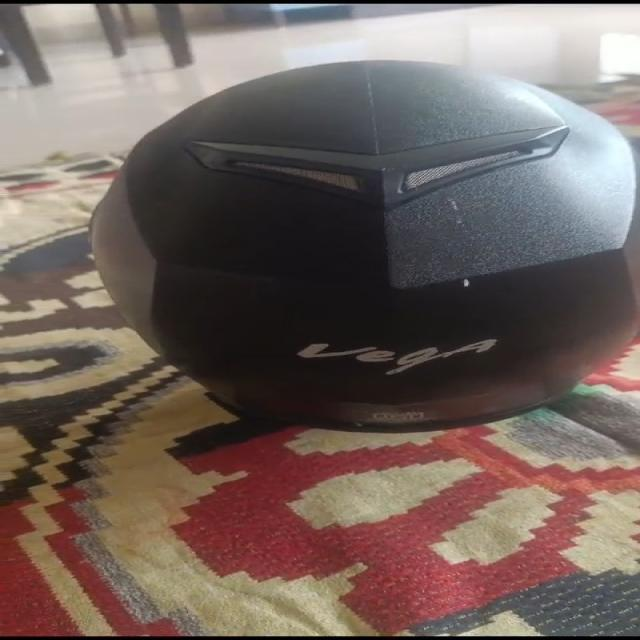Helmet: (89, 60, 640, 435)
